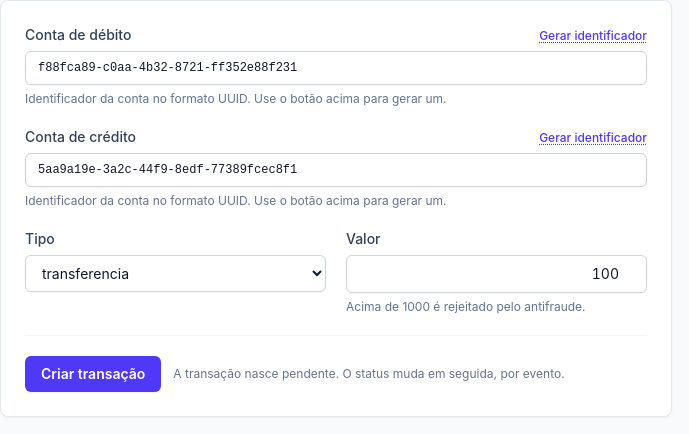
Test case: falha na criacao › posiciona no campo o erro que a API devolveu
Expected: the button "Criar transação" is enabled, [25, 356, 161, 392]
Replace the text in the field labelled "Conta de débito" with "3fa85f64-5717-4562-b3fc-2c963f66afa6" at x=336, y=68, box [25, 51, 647, 85]
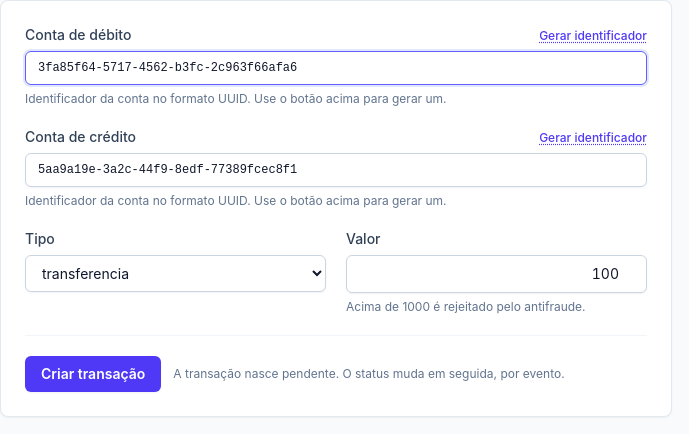
Replace the text in the field labelled "Conta de crédito" with "0f8fad5b-d9cb-469f-a165-70867728950e" at x=336, y=170, box [25, 153, 647, 187]
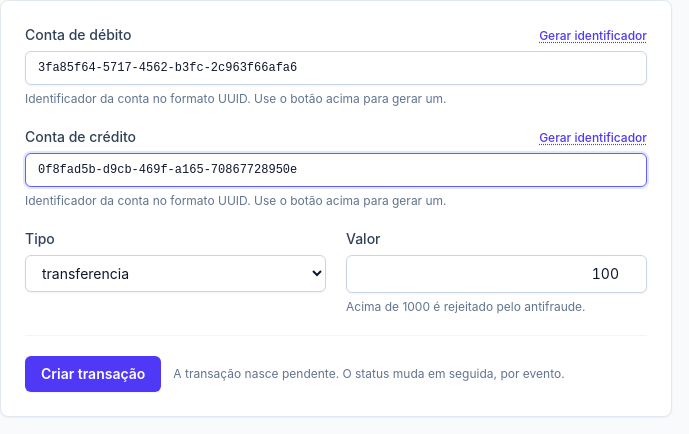
Replace the text in the number field labelled "Valor" with "120" at x=496, y=274, box [346, 255, 647, 293]
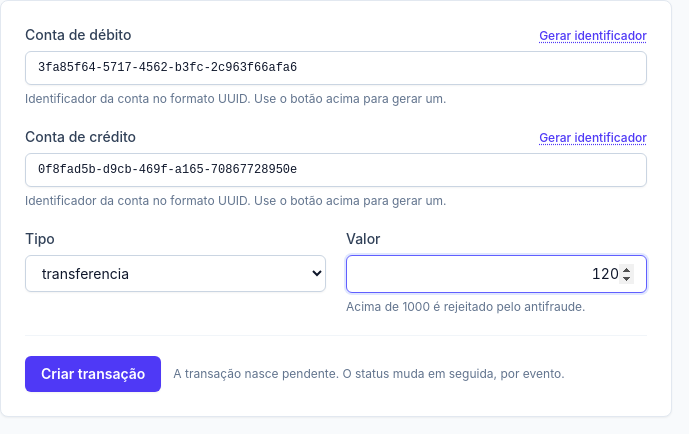
Click the button "Criar transação" at x=93, y=374, box [25, 356, 161, 392]
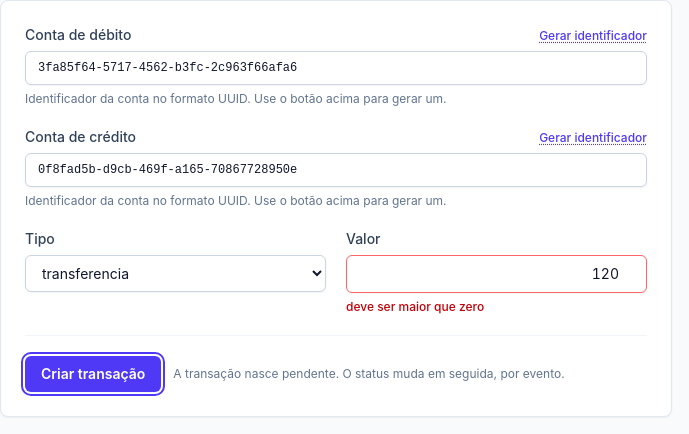
Expected: the text "deve ser maior que zero" is shown, [346, 299, 484, 314]
